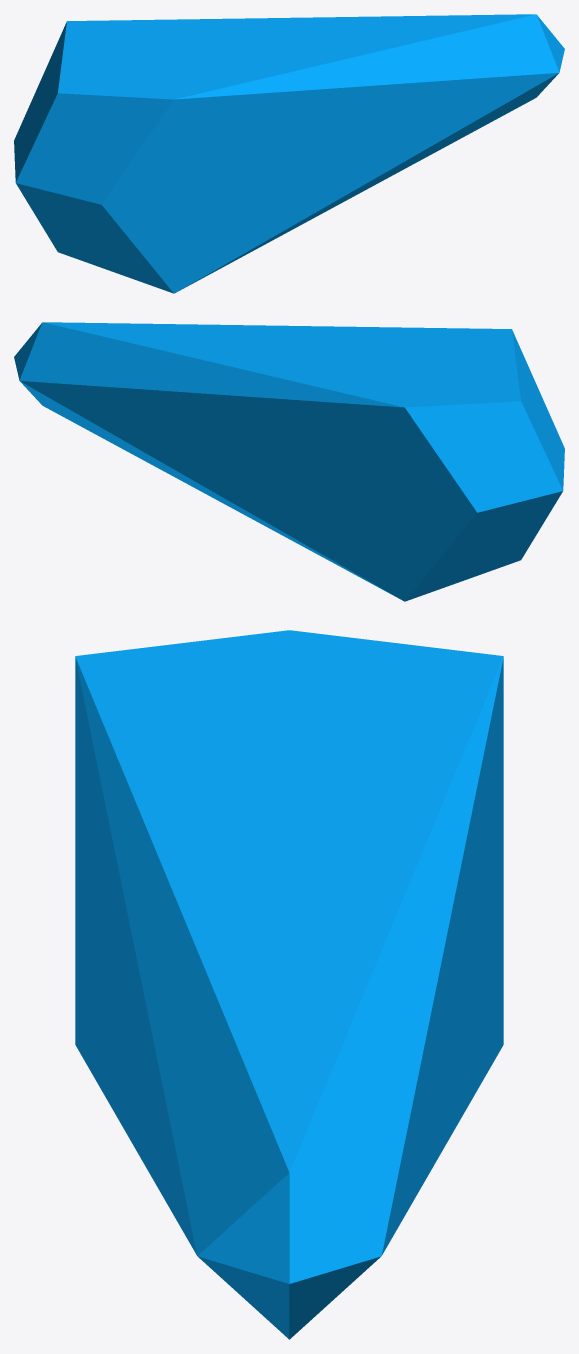
File: ice.obj
3 views of the same model, one above another, from view 1: azimuth 30°, elevation 25°; view 2: azimuth 150°, elevation 25°; view 3: azimuth 270°, elevation 25° (orthographic). The views are drawn at different scales.
Parts seen in each view (by area): view 1: Circle; view 2: Circle; view 3: Circle.
Part boxes in pixels (x1=…): Circle: x1=14, y1=14, x2=564, y2=293; Circle: x1=14, y1=322, x2=564, y2=601; Circle: x1=75, y1=630, x2=503, y2=1339.
Size of the model in its own units: 1.87 by 0.6328 by 0.6328.
1 material, 1 textured.
